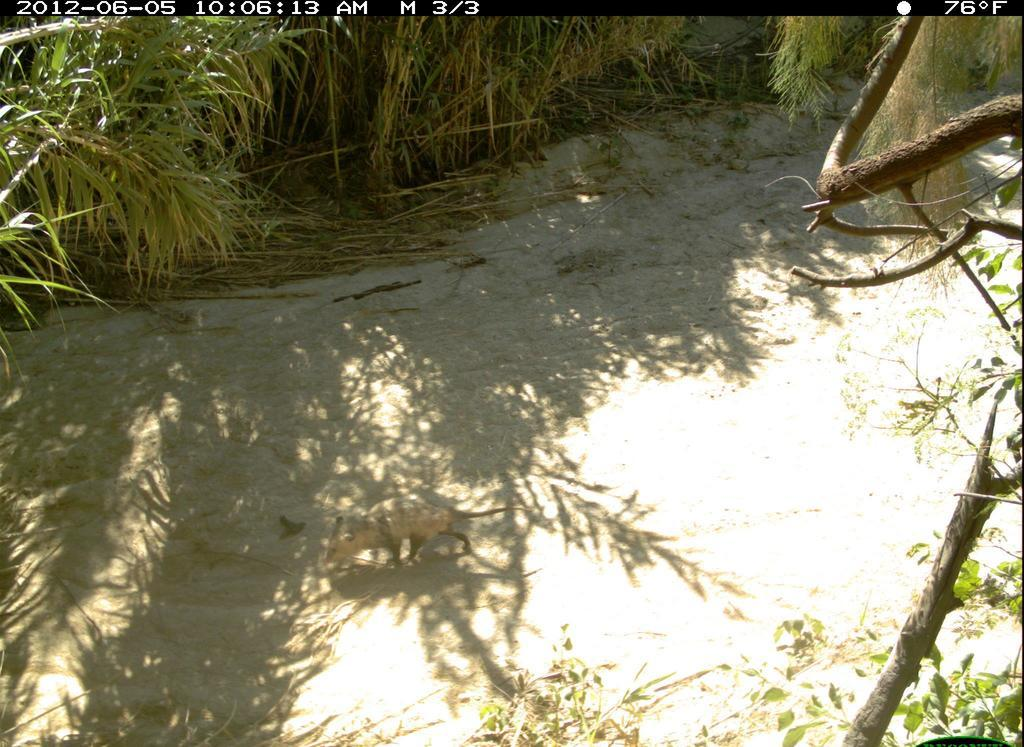opossum: (319, 487, 532, 584)
